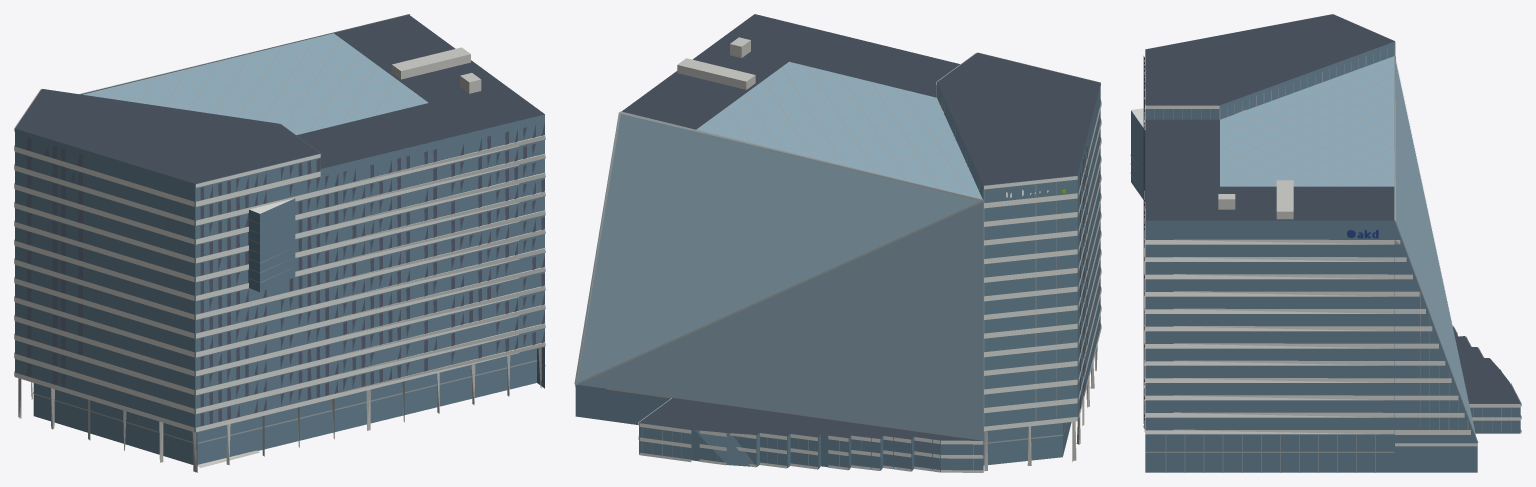
The model's file is the-edge.lod1.glb.
The picture shows the model from 3 angles, left to right: view 1: azimuth 30°, elevation 25°; view 2: azimuth 150°, elevation 25°; view 3: azimuth 270°, elevation 25°; orthographic projection. The views are drawn at different scales.
Parts seen in each view (by area): view 1: the-edge; view 2: the-edge; view 3: the-edge.
Boxes of the visible parts, box(x1,y1,x2,y2) form: the-edge: box(14, 14, 545, 472); the-edge: box(574, 14, 1101, 472); the-edge: box(1130, 14, 1521, 472).
Size of the model in its own units: 86.06 by 55.5 by 73.78.
